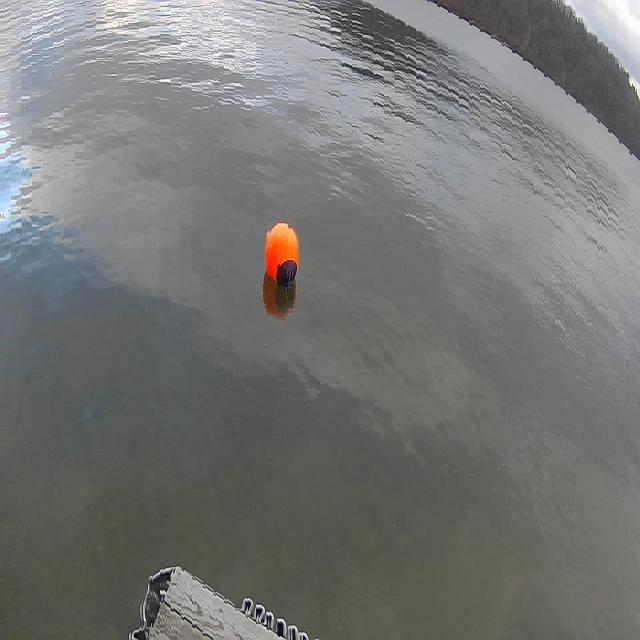Buoy: (259, 215, 310, 294)
